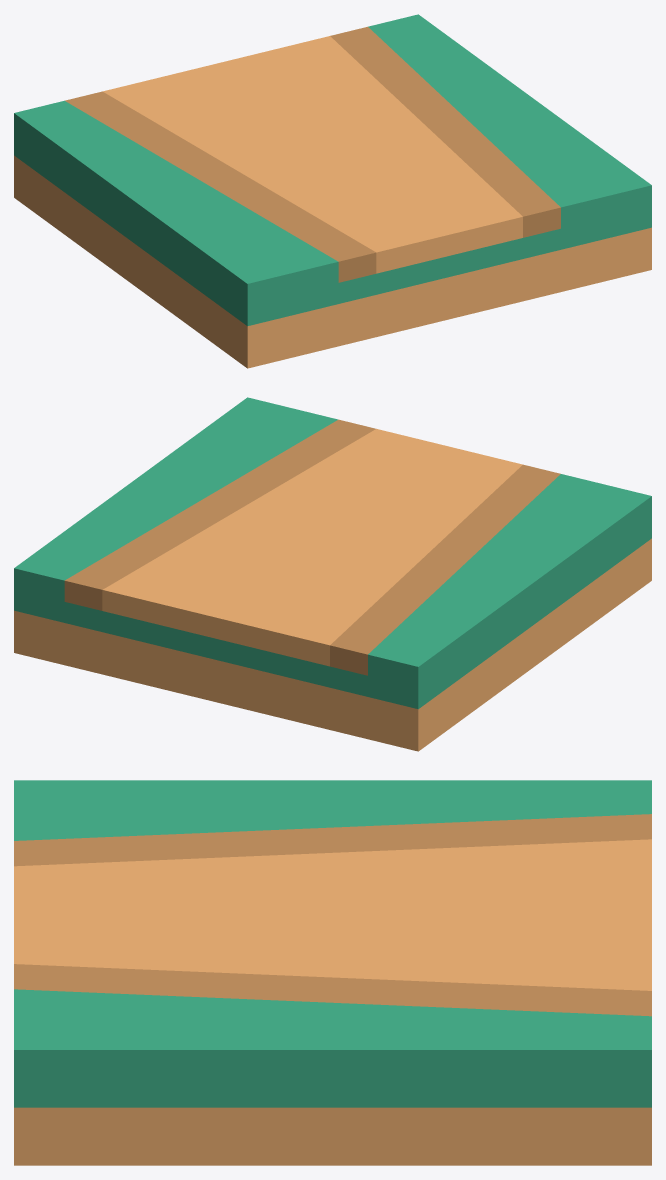
The model's file is tile_transition(+).fbx.
3 renders of one model, top to bottom at view 1: azimuth 30°, elevation 25°; view 2: azimuth 150°, elevation 25°; view 3: azimuth 270°, elevation 25°, orthographic. The views are drawn at different scales.
Visible parts, largest first — view 1: Mesh_1; view 2: Mesh_1; view 3: Mesh_1.
Part boxes in pixels (x1,y1,x2,y2): Mesh_1: [14, 14, 651, 368]; Mesh_1: [14, 397, 651, 751]; Mesh_1: [14, 780, 651, 1165].
Bounding box in the file's own units: 100 × 20 × 100.
